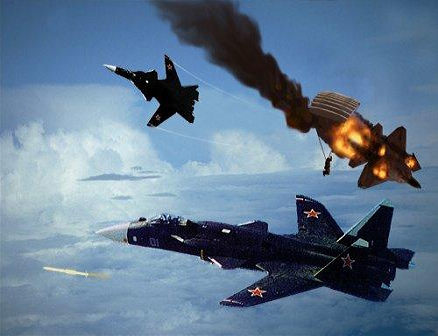airplane: (88, 187, 415, 308), (97, 56, 207, 127)
